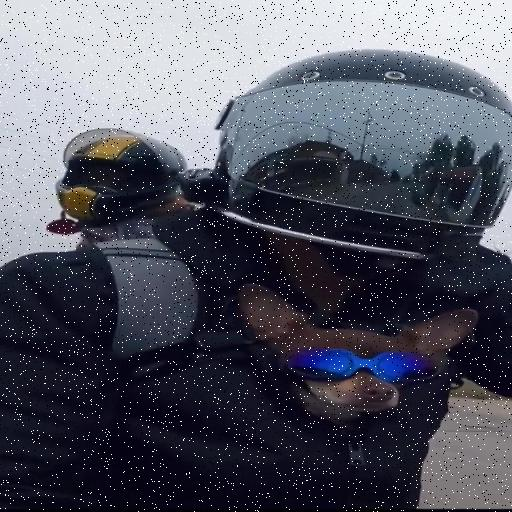Helmet: (206, 68, 512, 270)
